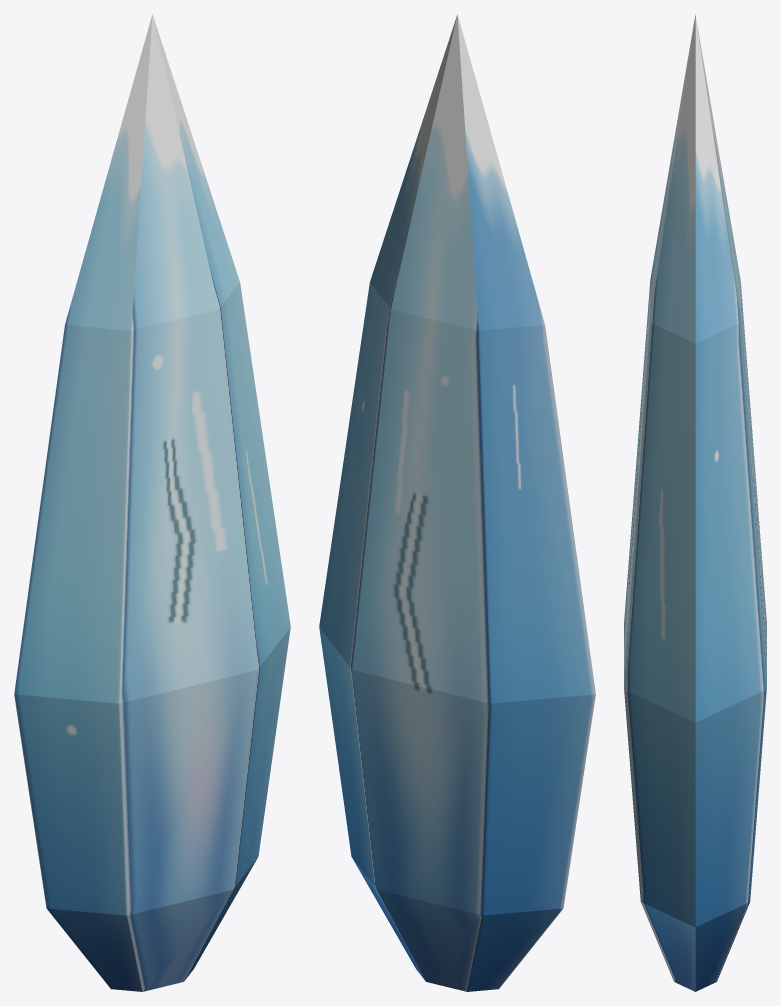
File: lotuspetal_a.glb
The picture shows the model from 3 angles, left to right: view 1: azimuth 30°, elevation 25°; view 2: azimuth 150°, elevation 25°; view 3: azimuth 270°, elevation 25°; orthographic projection.
Parts seen in each view (by area): view 1: petal; view 2: petal; view 3: petal.
Boxes of the visible parts, x1,y1,x2,y2 form: petal: (14, 14, 290, 991); petal: (319, 14, 595, 991); petal: (624, 14, 766, 991).
Bounding box in the file's own units: 0.3 × 1 × 0.1351.
Materials: 1 (1 with a texture image).
